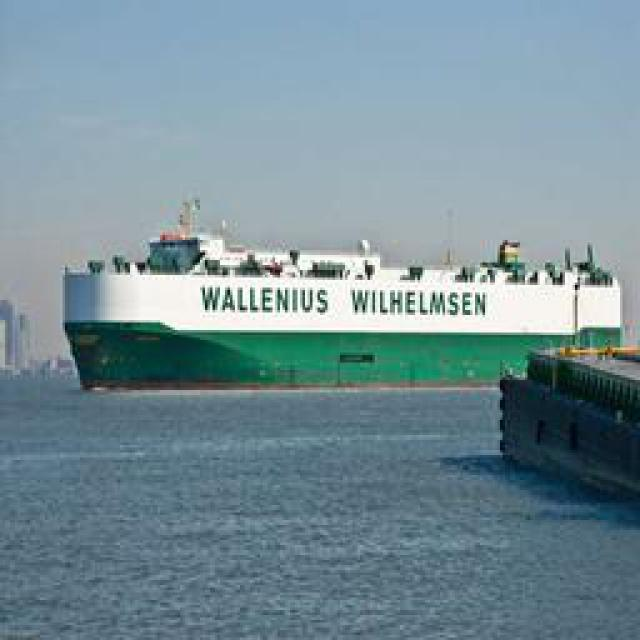Ship: (60, 197, 630, 380)
